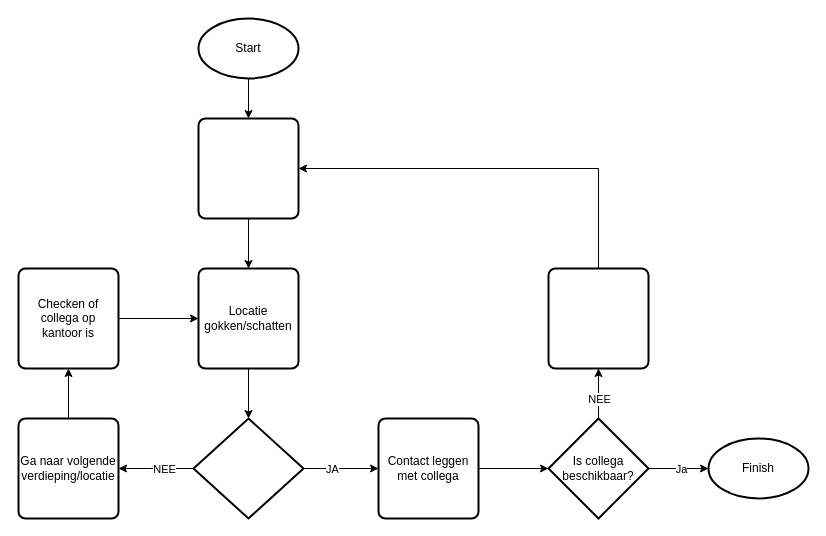
Some shapes in this 826 by 536 pixel diagram are drawn without their labels. Here are the shapes that lost their labels. From the top down, the centre of each, then its label:
At point (248, 168): "Zoekt collega".
At point (598, 318): "Terug naar je plek en wachten".
At point (248, 468): "Gevonden?".
